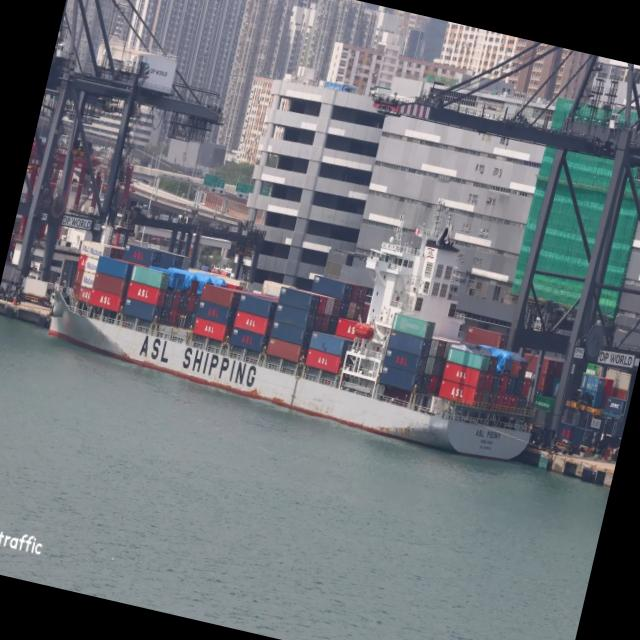Cargo: (49, 227, 531, 459)
